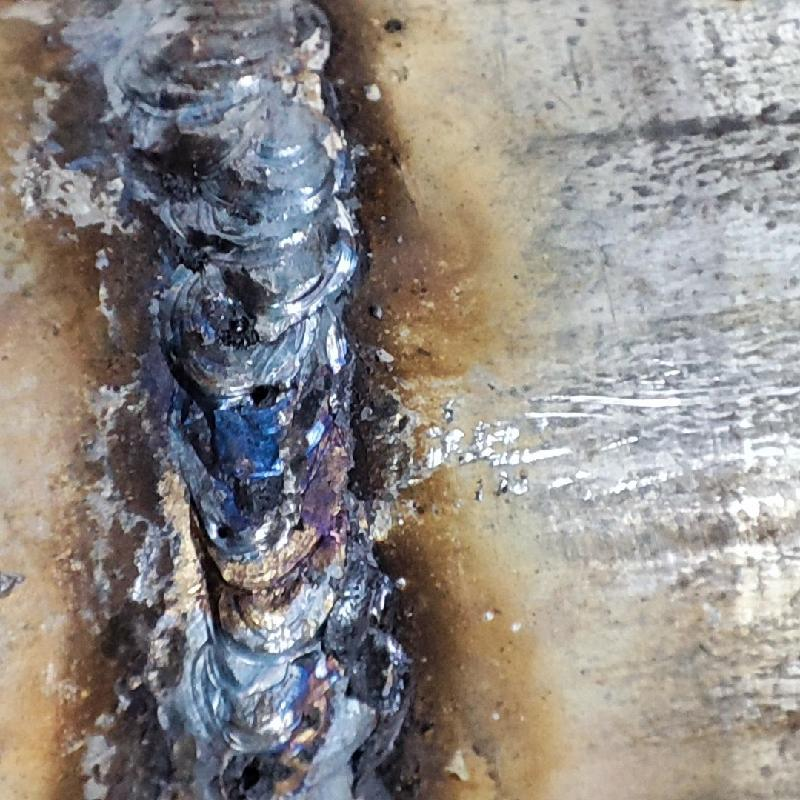Surface_pores: (233, 361, 282, 420), (198, 513, 253, 552)
